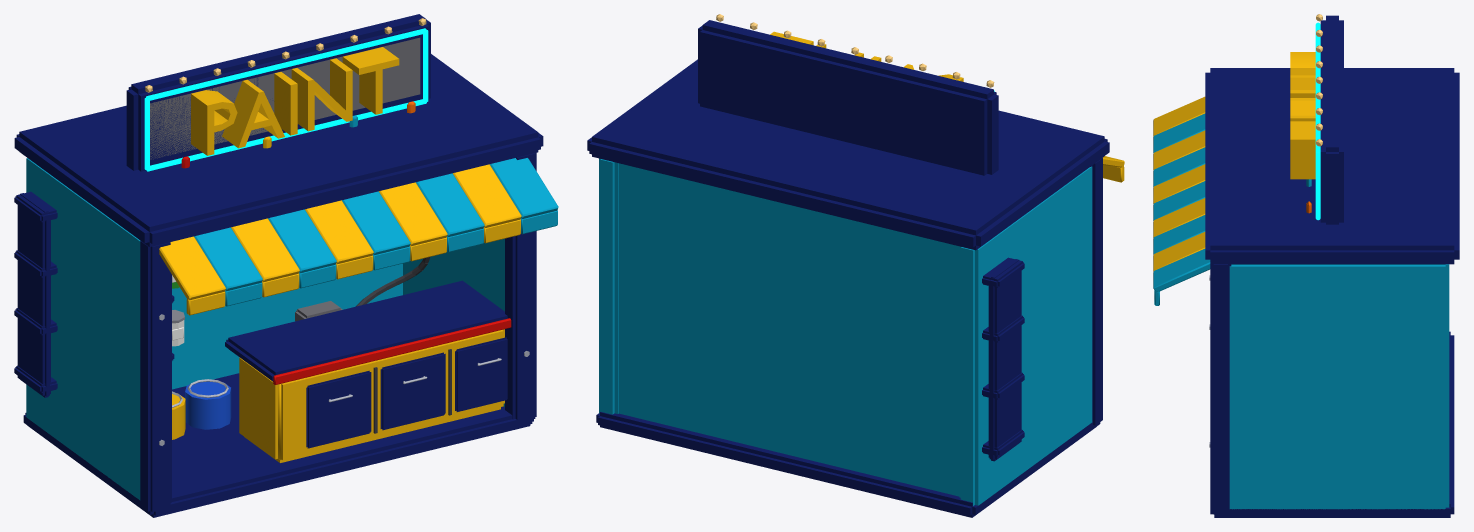
File: paint_booth.fbx
The picture shows the model from 3 angles, left to right: view 1: azimuth 30°, elevation 25°; view 2: azimuth 150°, elevation 25°; view 3: azimuth 270°, elevation 25°; orthographic projection. The views are drawn at different scales.
Parts seen in each view (by area): view 1: paint_booth; view 2: paint_booth; view 3: paint_booth.
Boxes of the visible parts, x1=… form: paint_booth: x1=14, y1=14, x2=558, y2=517; paint_booth: x1=587, y1=14, x2=1124, y2=517; paint_booth: x1=1153, y1=14, x2=1459, y2=517.
Bounding box in the file's own units: 17 × 15.11 × 11.8.
